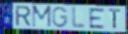E: (88, 8, 106, 29)
G: (52, 6, 69, 29)
L: (71, 6, 86, 30)
M: (31, 4, 52, 28)
R: (15, 5, 32, 27)
T: (108, 8, 122, 30)
